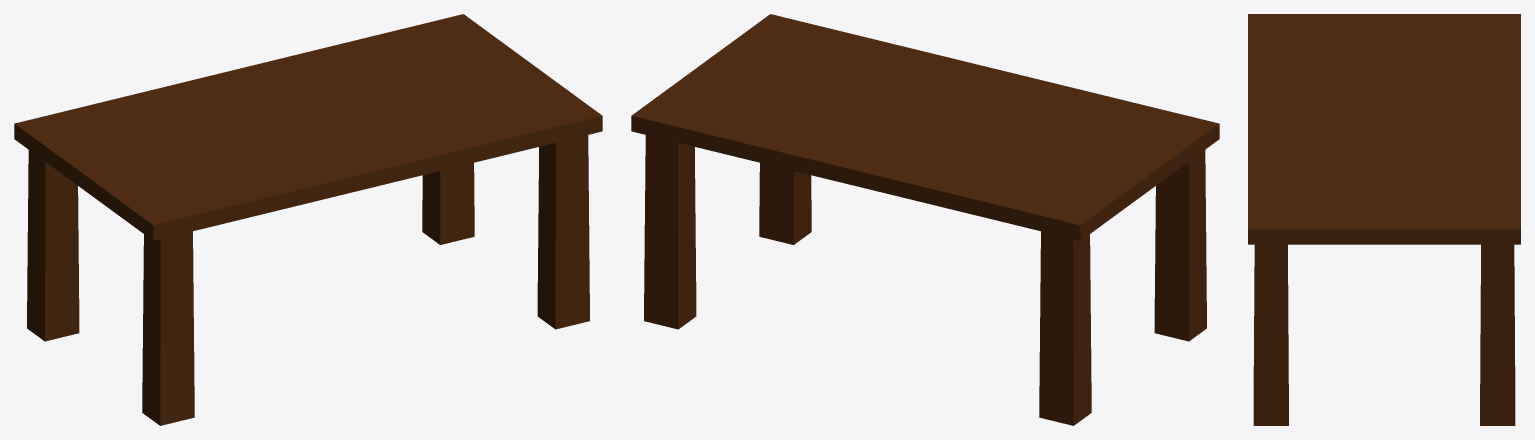
The model's file is Table_02.glb.
3 views of the same model, side by side, from view 1: azimuth 30°, elevation 25°; view 2: azimuth 150°, elevation 25°; view 3: azimuth 270°, elevation 25° (orthographic).
Visible parts, largest first — view 1: Table_02; view 2: Table_02; view 3: Table_02.
Boxes of the visible parts, <box> form: Table_02: <box>14,14,602,425</box>; Table_02: <box>631,14,1219,425</box>; Table_02: <box>1248,14,1520,425</box>.
Bounding box in the file's own units: 2.3 × 1 × 1.23.
